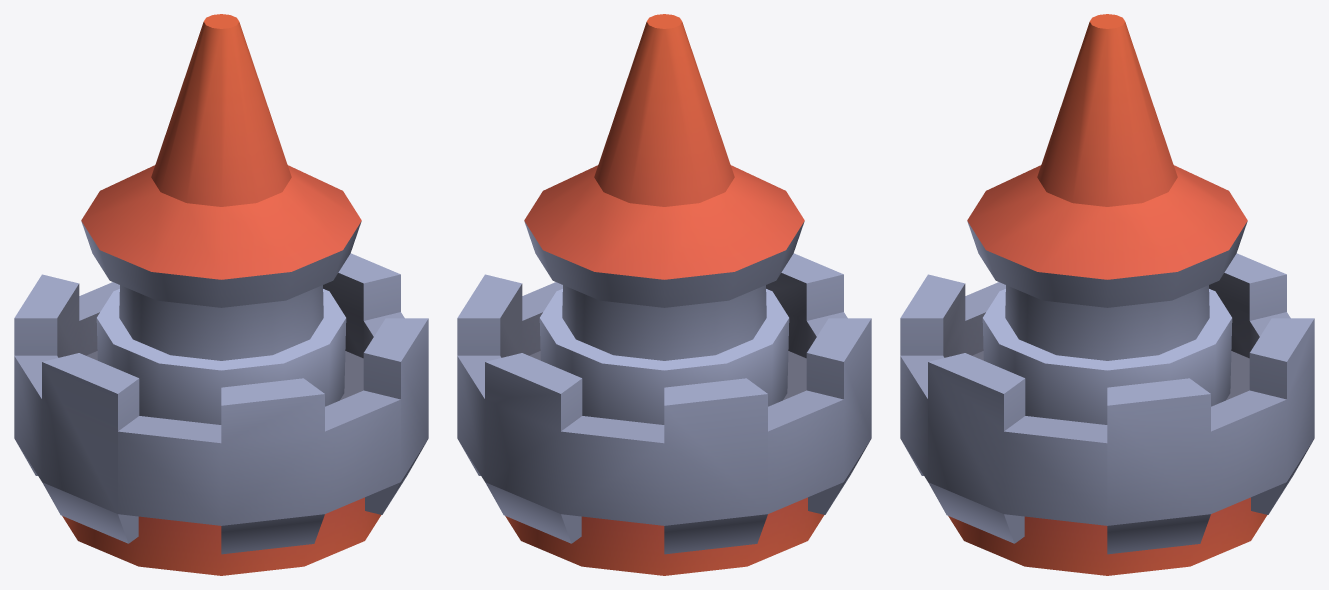
The model's file is tower-round-roof-b.fbx.
The picture shows the model from 3 angles, left to right: view 1: azimuth 30°, elevation 25°; view 2: azimuth 150°, elevation 25°; view 3: azimuth 270°, elevation 25°; orthographic projection.
Parts seen in each view (by area): view 1: tower-round-roof-b; view 2: tower-round-roof-b; view 3: tower-round-roof-b.
Boxes of the visible parts, x1,y1,x2,y2 form: tower-round-roof-b: (14,14,428,575); tower-round-roof-b: (457,14,871,575); tower-round-roof-b: (900,14,1314,575).
Bounding box in the file's own units: 100 × 129 × 100.
